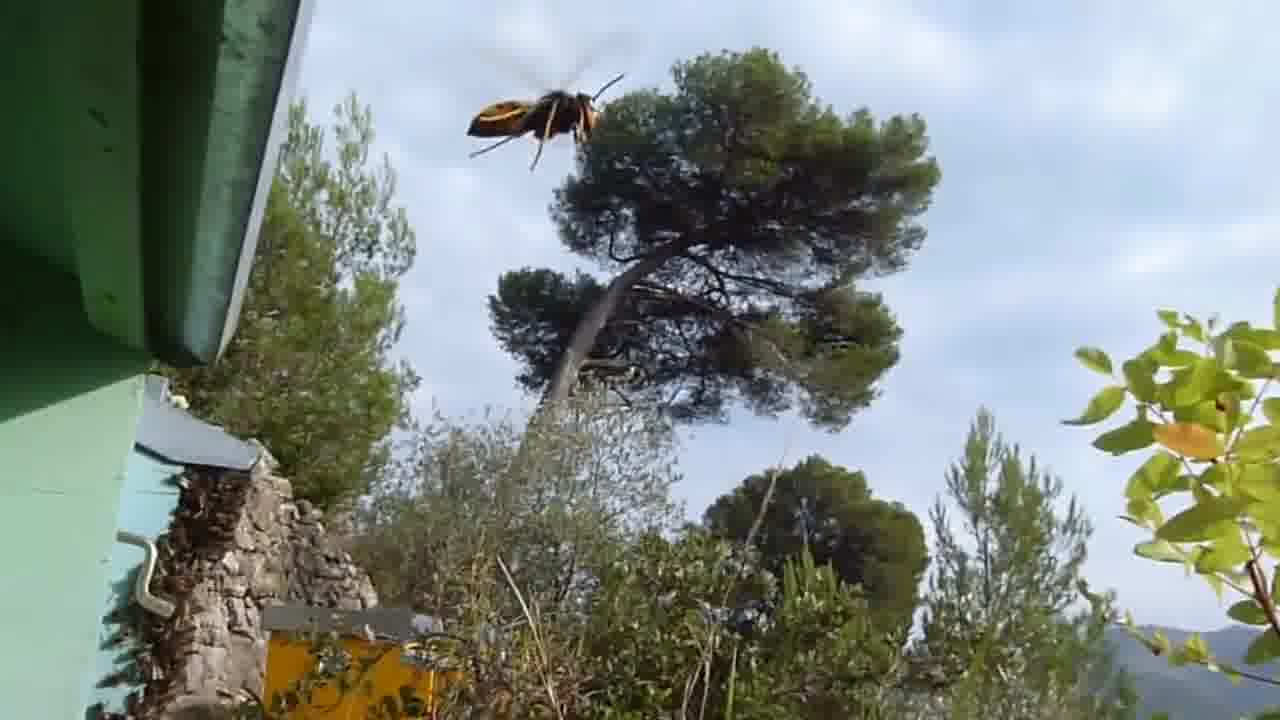bee: (174, 466, 246, 564), (104, 626, 183, 702)
hornet: (458, 77, 614, 165)
